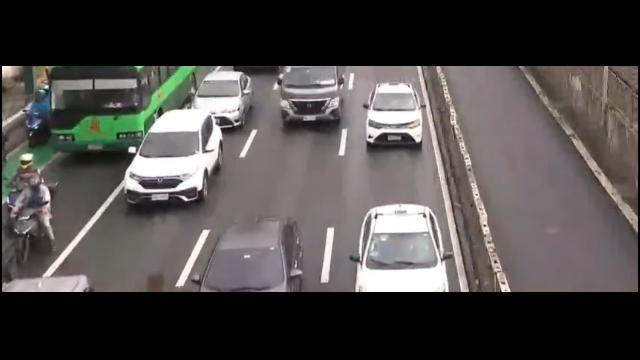bus: (52, 64, 196, 159)
car: (192, 197, 312, 296), (348, 196, 458, 291), (124, 111, 223, 207), (364, 81, 427, 150), (191, 68, 259, 129), (277, 66, 343, 124)
motorcycle: (14, 174, 57, 264), (0, 153, 44, 231), (23, 89, 52, 146)
